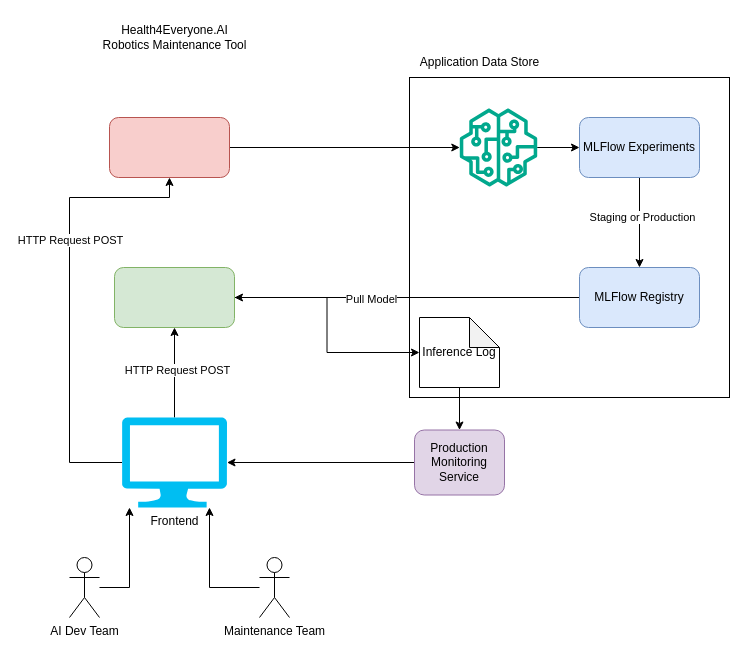
Image size: 747x655. Some labels were removed from this diagram. Here are the shapes that lost their labels. From the top down, the box of each, then its label:
(108, 116, 230, 178): Model Training
(459, 108, 537, 186): Trained XGBoost Classifier
(114, 266, 234, 328): Inference Service
